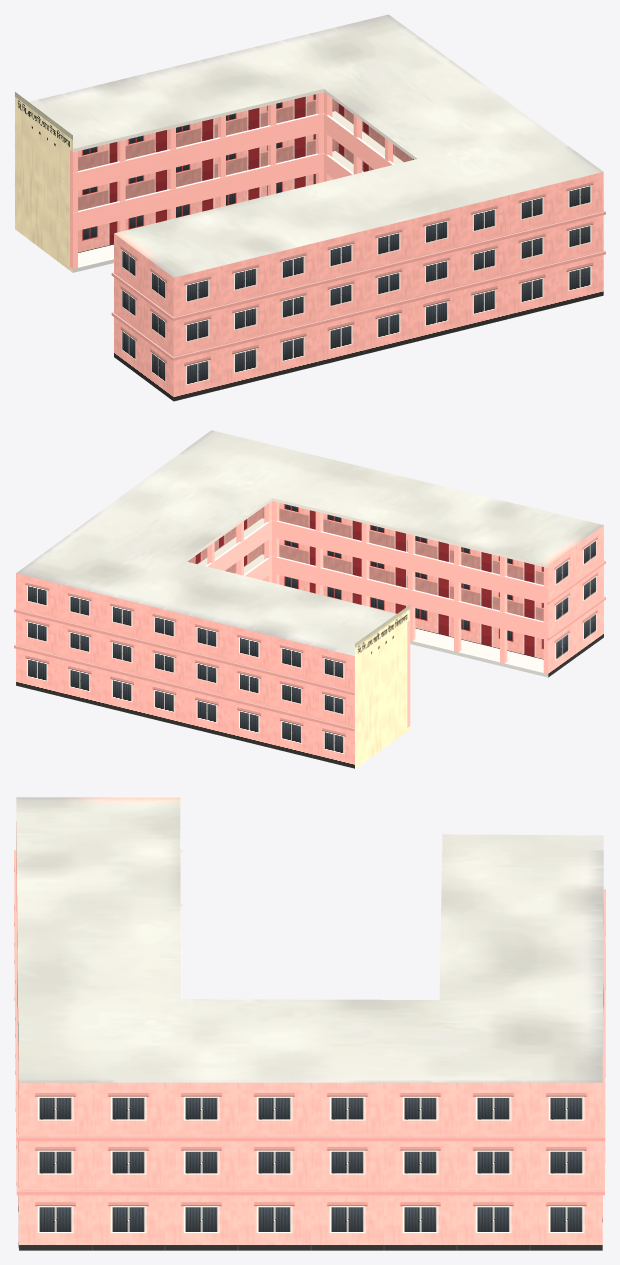
Rendered from high-school-u.glb.
The picture shows the model from 3 angles, top to bottom: view 1: azimuth 30°, elevation 25°; view 2: azimuth 150°, elevation 25°; view 3: azimuth 270°, elevation 25°; orthographic projection. The views are drawn at different scales.
Parts seen in each view (by area): view 1: High School U; view 2: High School U; view 3: High School U.
Boxes of the visible parts, x1,y1,x2,y2 form: High School U: [14, 14, 605, 401]; High School U: [14, 430, 605, 768]; High School U: [14, 797, 605, 1250].
Size of the model in its own units: 29.7 by 9 by 25.86.
1 material, 1 textured.
